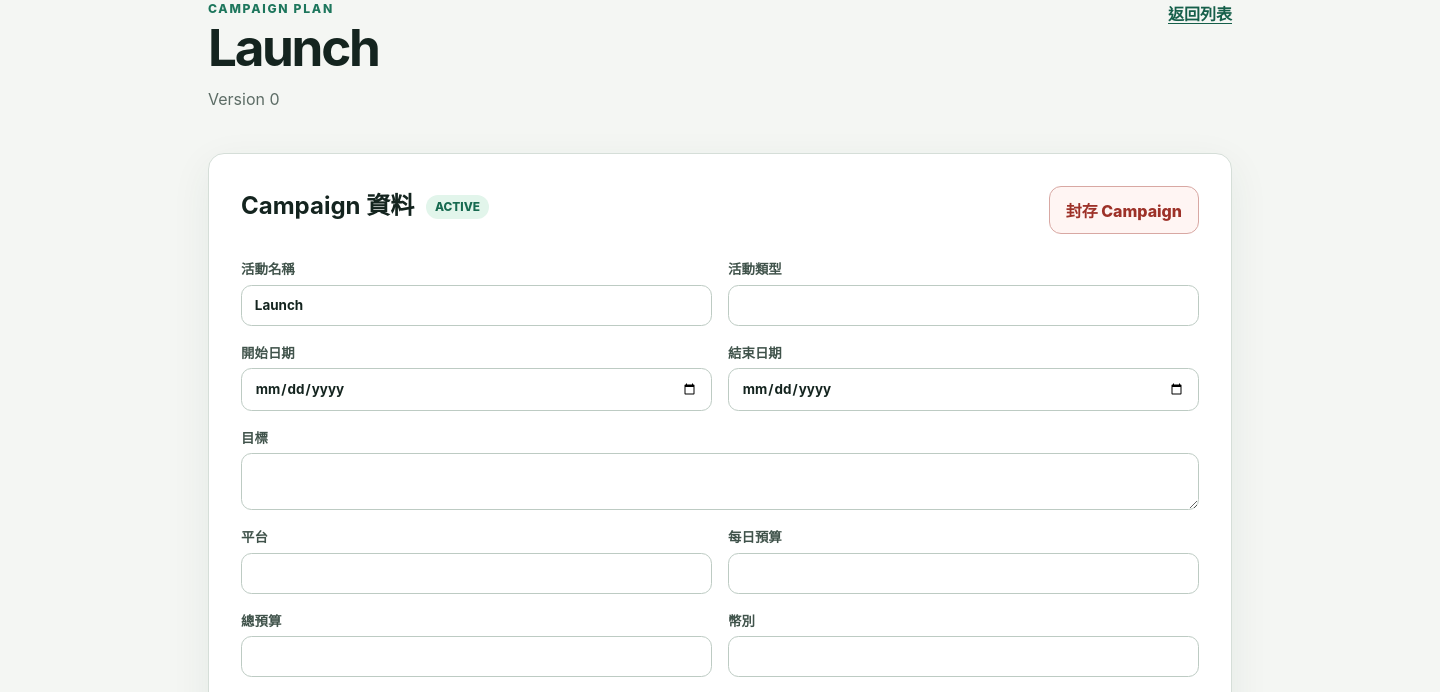
Test: CampaignDetailView › shows reload recovery for HTTP 409
Replace the text in the field labelled "活動名稱" with "Updated" at (476, 305), box [241, 284, 712, 326]
(page scrolled)
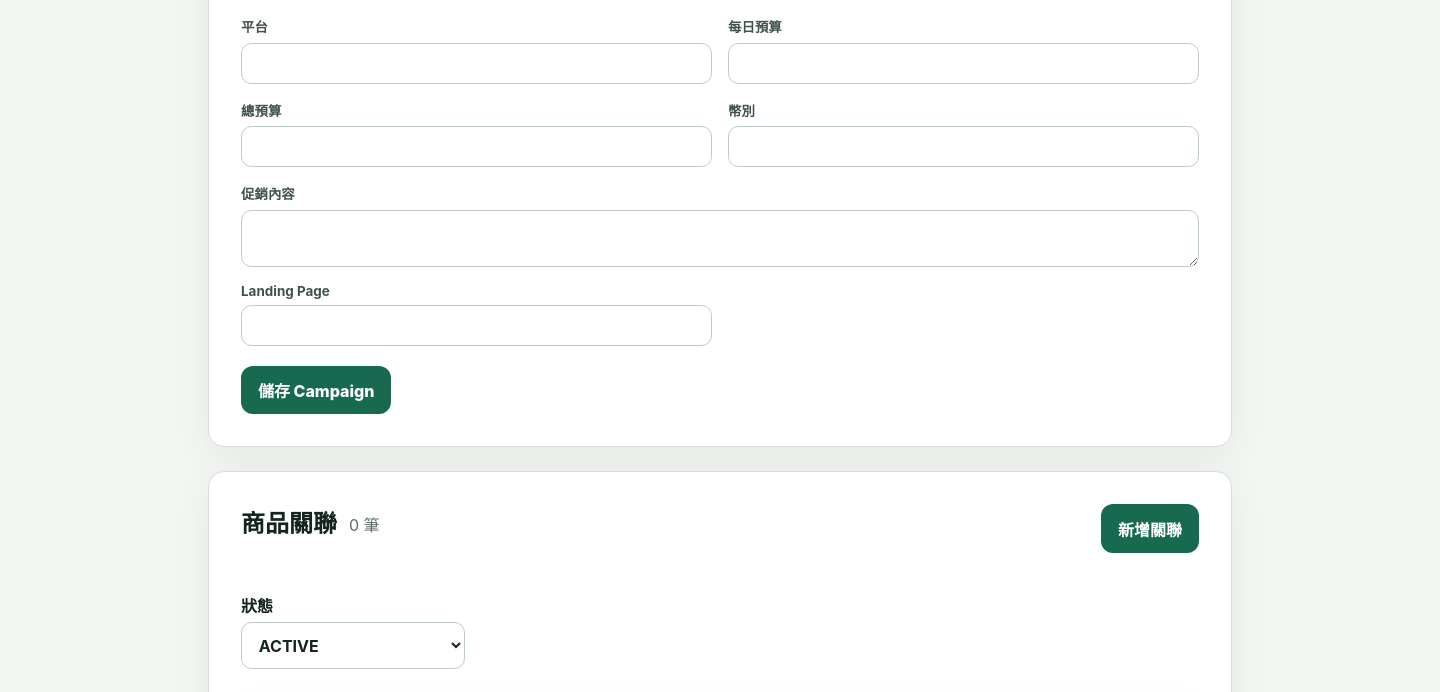
Click the button "儲存 Campaign".
click(316, 390)  # box [241, 366, 391, 414]
(page scrolled)
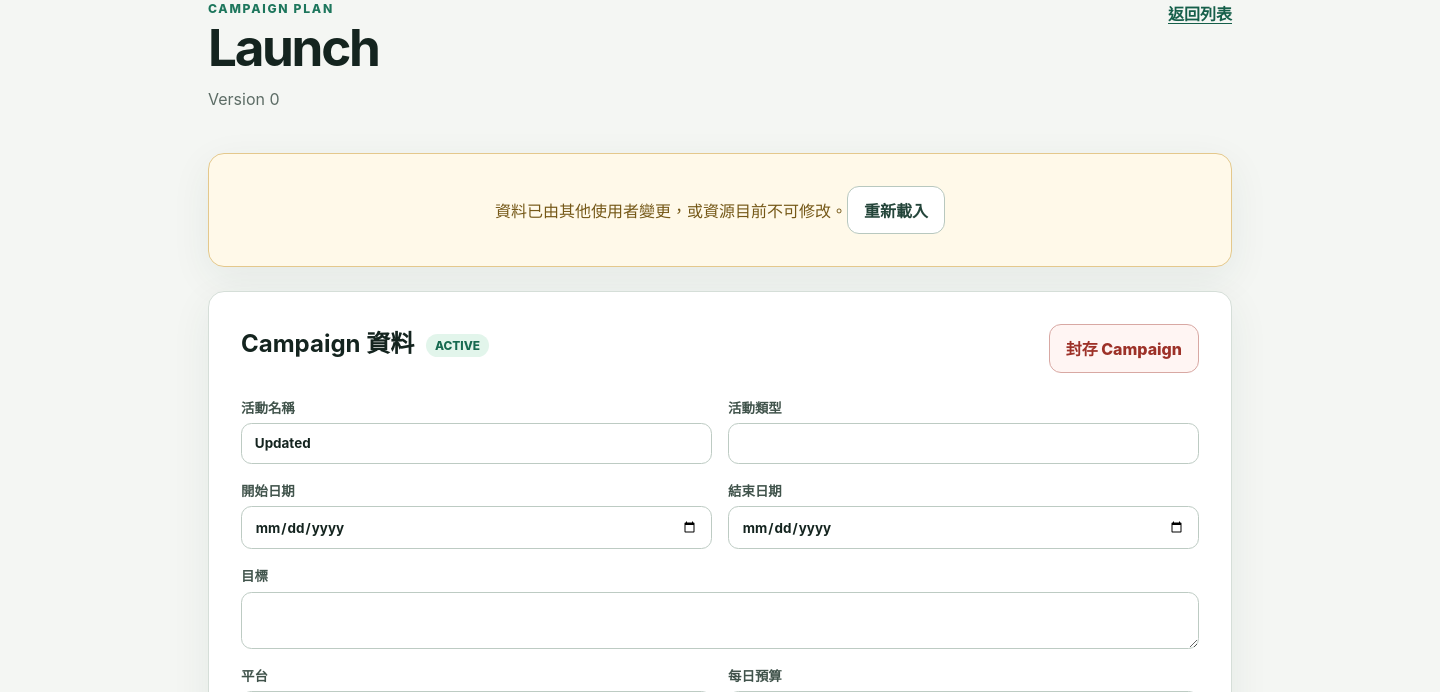
Expected: the message shows "資料已由其他使用者變更", [495, 201, 847, 221]
